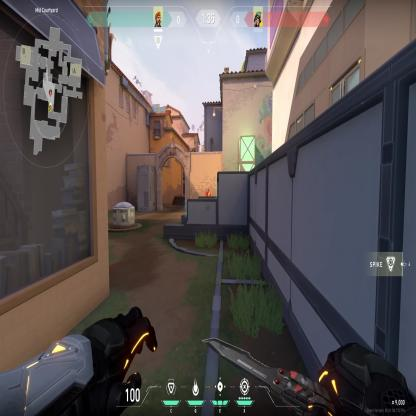enemy: (204, 186, 211, 196)
